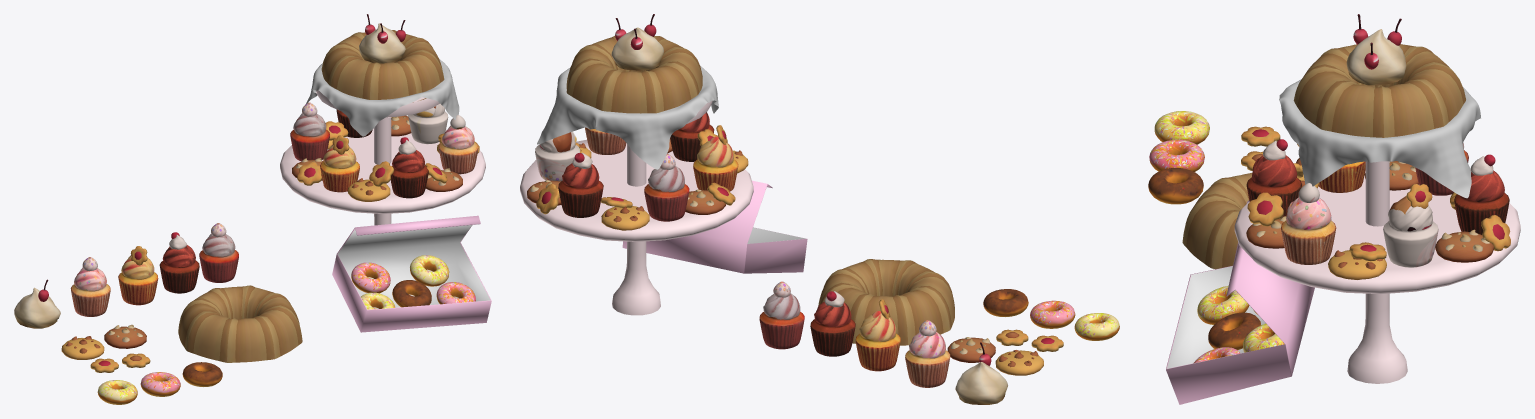
File: desserts1.fbx
The picture shows the model from 3 angles, left to right: view 1: azimuth 30°, elevation 25°; view 2: azimuth 150°, elevation 25°; view 3: azimuth 270°, elevation 25°; orthographic projection. The views are drawn at different scales.
Visible parts, largest first — view 1: Donut Box, Dessert, TRAY, Dessert.001, Cloth, CC, CC.003, CC.002, Cupcake1, Cupcake 2, Cupcake 4, CC.001 (+18 smaller); view 2: TRAY, Dessert.001, Dessert, Donut Box, Cloth, CC.002, CC.003, CC, Cupcake 6, Cupcake 4, CC.001, Cupcake 3 (+12 smaller); view 3: TRAY, Donut Box, Dessert.001, Cloth, Dessert, Cupcake 2, Cupcake 5, Cupcake 6, Cupcake1, Cream, Donut.002, Cookie.004 (+16 smaller).
Boxes of the visible parts, x1,y1,x2,y2 form: Donut Box: (332, 215, 491, 332); Dessert: (178, 285, 302, 362); TRAY: (280, 90, 485, 225); Dessert.001: (321, 30, 444, 102); Cloth: (305, 59, 459, 136); CC: (159, 232, 199, 293); CC.003: (70, 257, 110, 316); CC.002: (199, 223, 238, 282); Cupcake1: (390, 137, 428, 198); Cupcake 2: (438, 115, 478, 174); Cupcake 4: (290, 102, 329, 161); CC.001: (118, 255, 158, 305); TRAY: (520, 100, 753, 315); Dessert.001: (566, 36, 702, 113); Dessert: (818, 259, 954, 345); Donut Box: (622, 180, 807, 273); Cloth: (537, 65, 718, 169); CC.002: (759, 281, 804, 349); CC.003: (905, 320, 950, 387); CC: (810, 291, 855, 356); Cupcake 6: (558, 152, 603, 217); Cupcake 4: (644, 154, 689, 221); CC.001: (855, 311, 900, 371); Cupcake 3: (693, 136, 738, 191); TRAY: (1234, 161, 1520, 383); Donut Box: (1166, 200, 1314, 404); Dessert.001: (1293, 44, 1465, 137); Cloth: (1279, 79, 1480, 198); Dessert: (1182, 173, 1252, 269); Cupcake 2: (1281, 183, 1336, 264); Cupcake 5: (1383, 196, 1438, 267); Cupcake 6: (1454, 154, 1509, 234); Cupcake1: (1246, 139, 1301, 218); Cream: (1346, 29, 1406, 85); Donut.002: (1148, 168, 1203, 204); Cookie.004: (1435, 229, 1493, 262).
Size of the model in its own units: 613 by 347 by 323.
